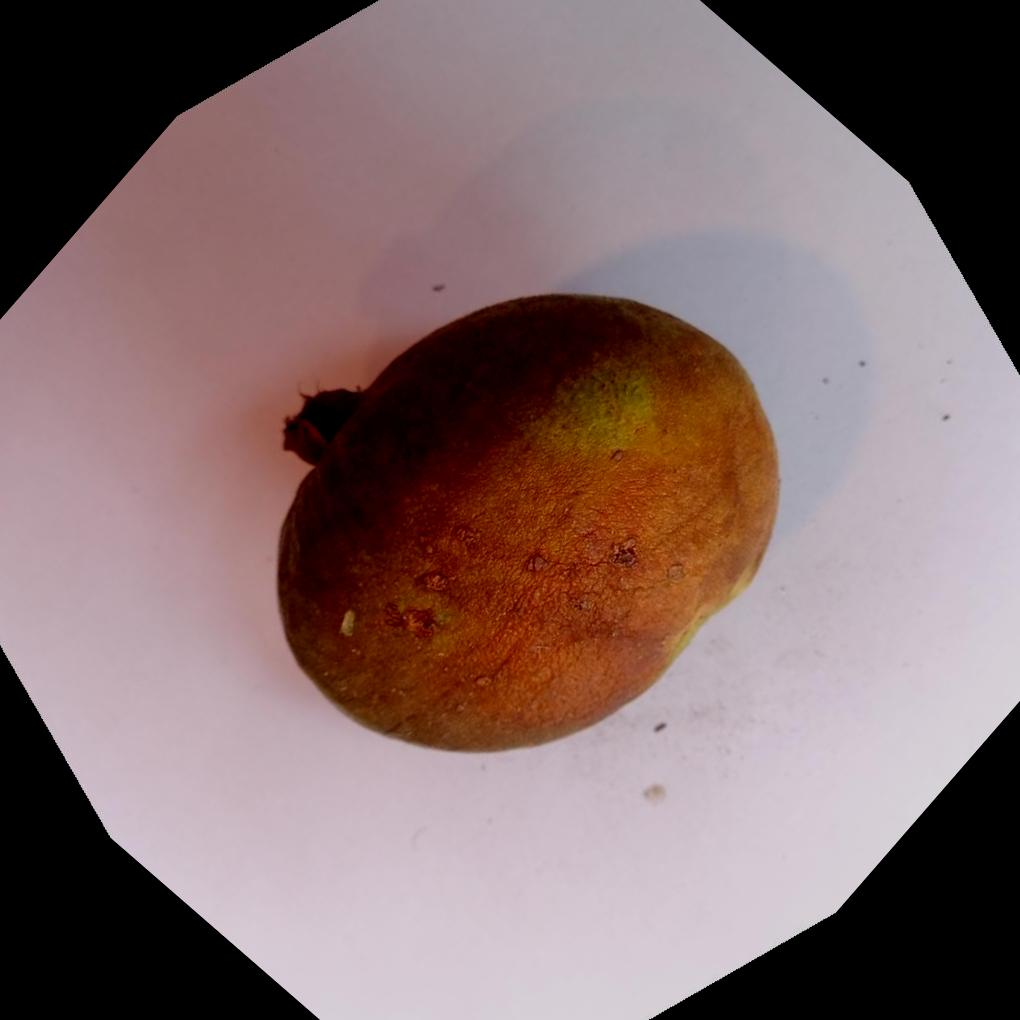FreshOrange: (275, 293, 785, 757)
